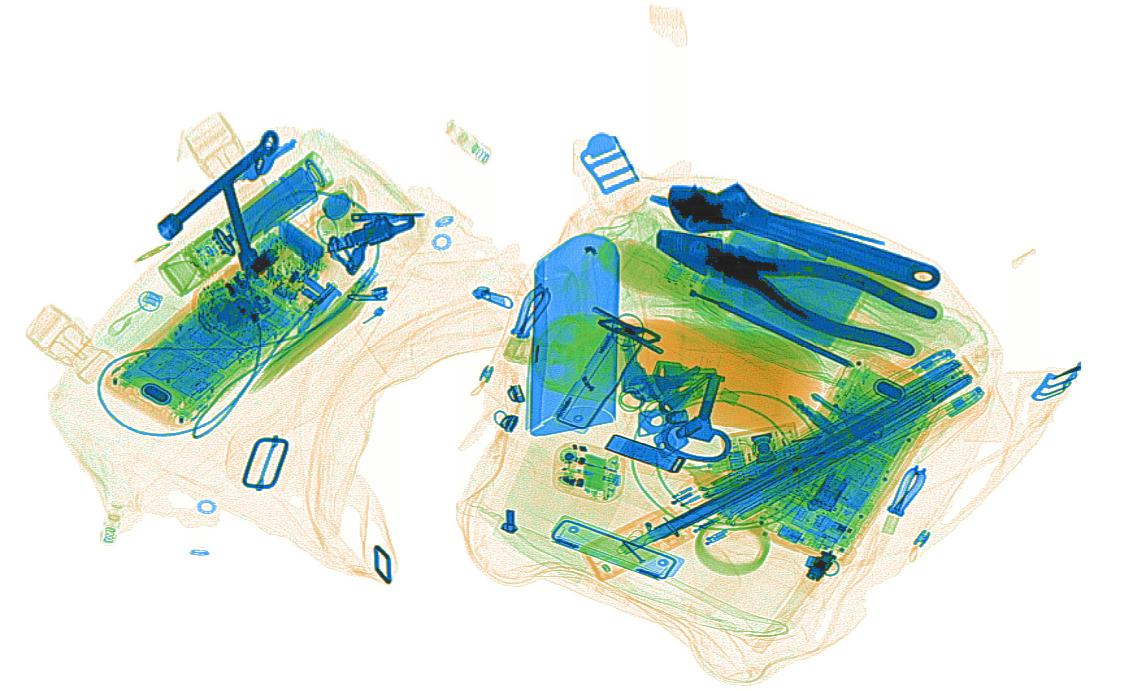battery: (225, 166, 317, 247)
